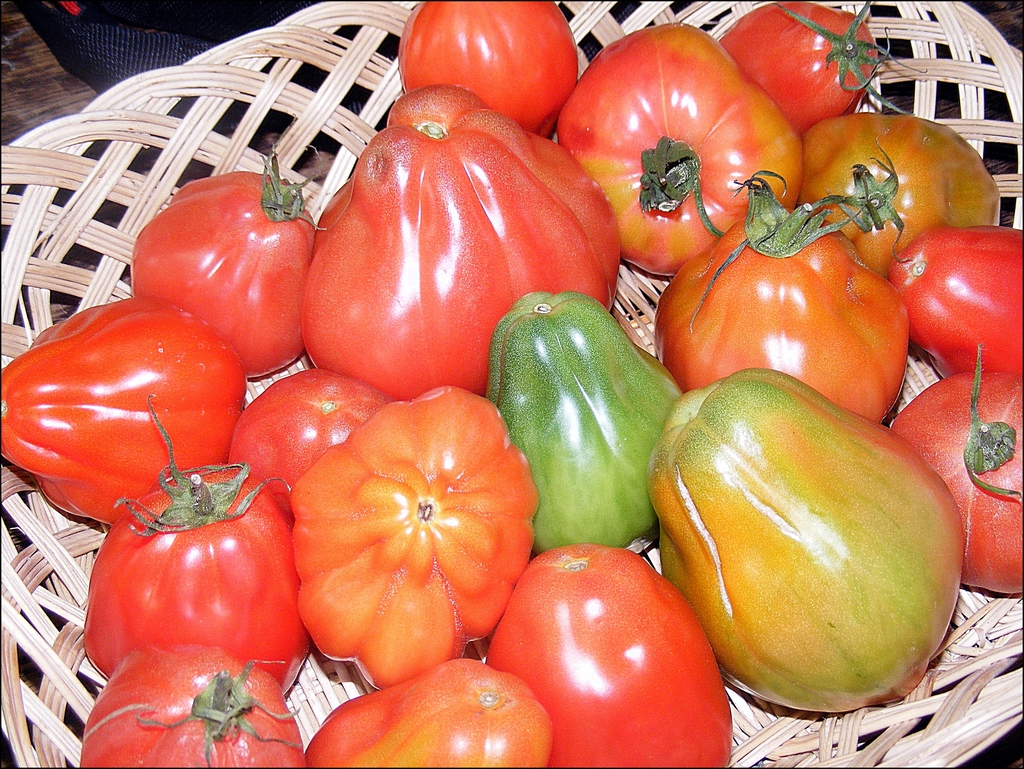Tomato: (0, 0, 1023, 768), (493, 542, 736, 761)
